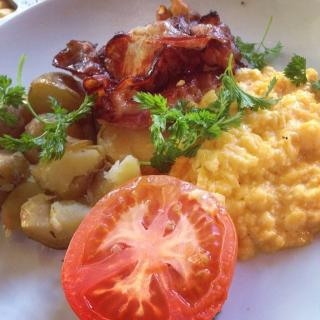tomato: (61, 175, 237, 319)
